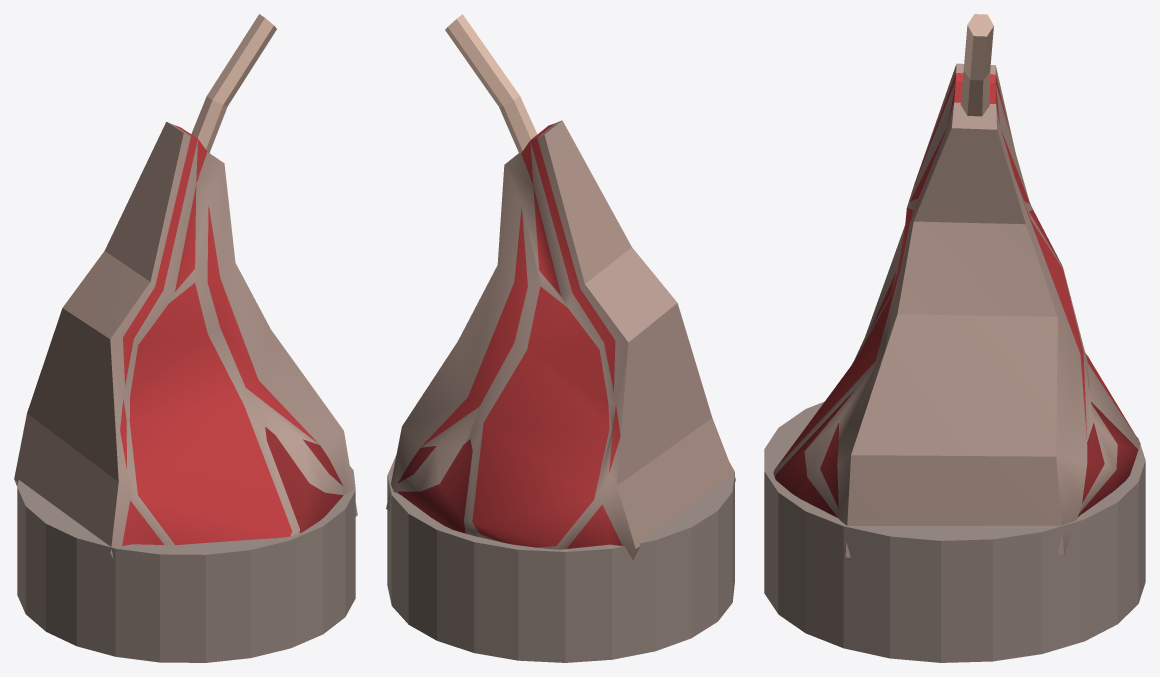
3 renders of one model, left to right at view 1: azimuth 30°, elevation 25°; view 2: azimuth 150°, elevation 25°; view 3: azimuth 270°, elevation 25°, orthographic. The views are drawn at different scales.
Parts seen in each view (by area): view 1: Lamb_Chop, Cylinder.001; view 2: Lamb_Chop, Cylinder.001; view 3: Lamb_Chop, Cylinder.001.
Part boxes in pixels (left/top/right/bottom): Lamb_Chop: left=14, top=14, right=357, bottom=558; Cylinder.001: left=17, top=466, right=355, bottom=662; Lamb_Chop: left=386, top=14, right=735, bottom=560; Cylinder.001: left=387, top=455, right=734, bottom=662; Lamb_Chop: left=773, top=14, right=1140, bottom=557; Cylinder.001: left=764, top=401, right=1145, bottom=662.
Size of the model in its own units: 125 by 222 by 125.
2 materials, 1 textured.
